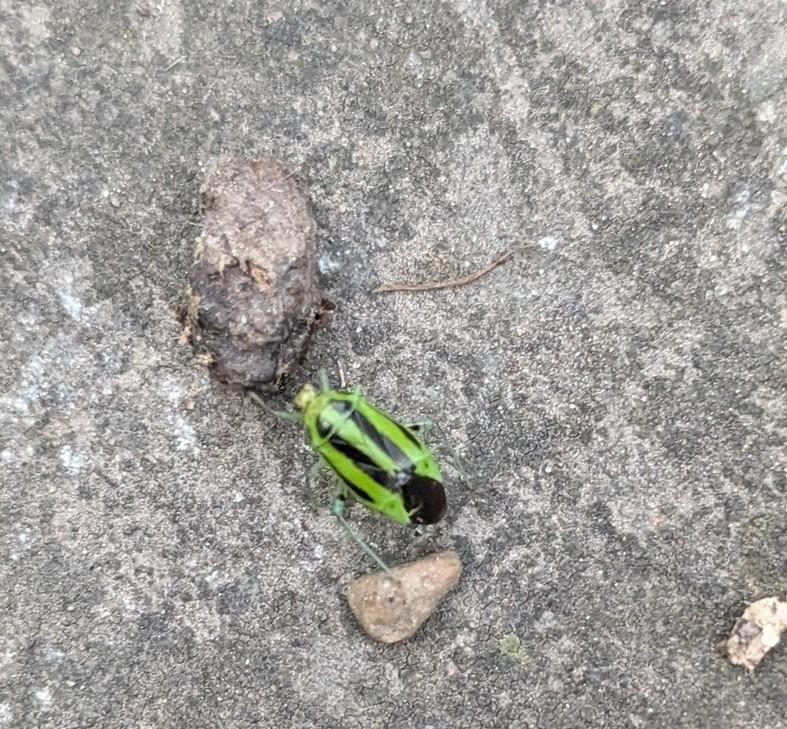plant_bugs: (215, 330, 497, 589)
